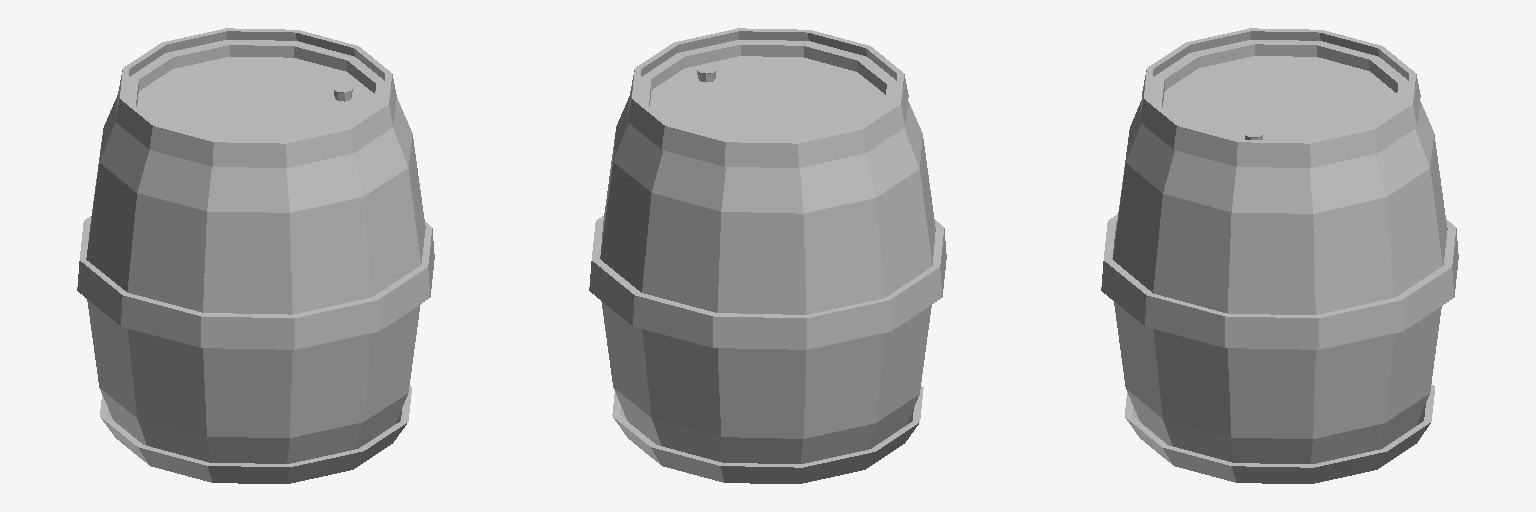
File: Low_Poly_Barrel.obj
3 views of the same model, side by side, from view 1: azimuth 30°, elevation 25°; view 2: azimuth 150°, elevation 25°; view 3: azimuth 270°, elevation 25° (orthographic).
Parts seen in each view (by area): view 1: Barrel1; view 2: Barrel1; view 3: Barrel1.
Part boxes in pixels (x1,y1,x2,y2): Barrel1: (77, 28, 434, 483); Barrel1: (589, 28, 946, 483); Barrel1: (1101, 28, 1458, 483).
Bounding box in the file's own units: 2.66 × 2.79 × 2.66.